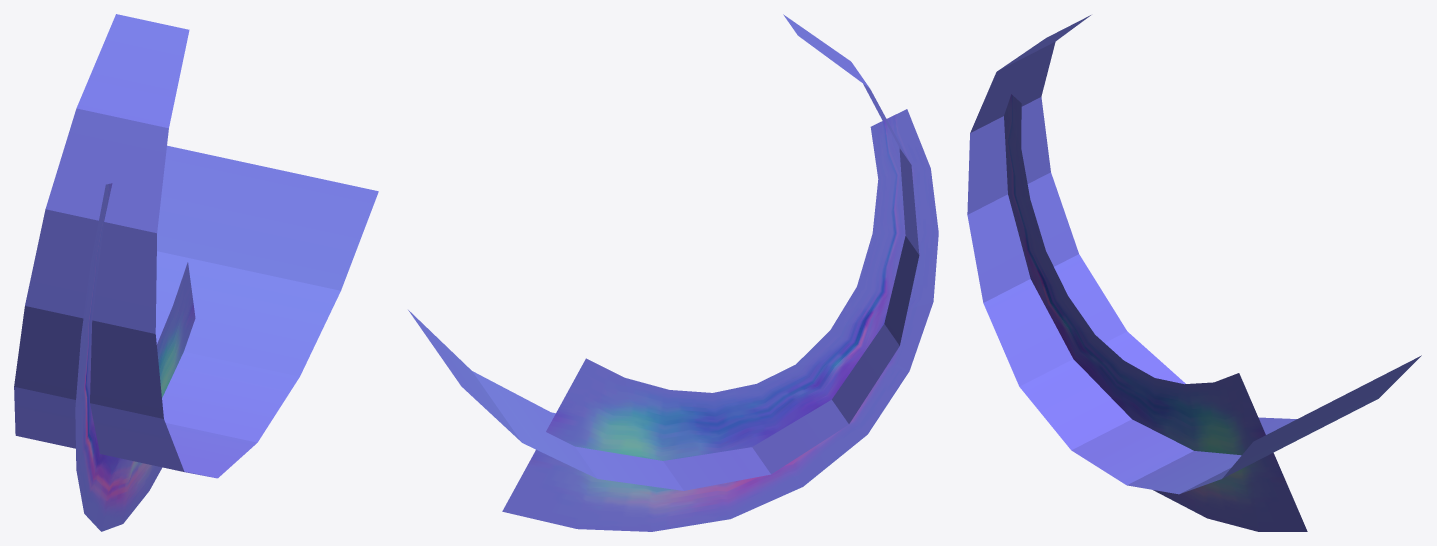
Rendered from langpugong_fire.obj.
The picture shows the model from 3 angles, left to right: view 1: azimuth 30°, elevation 25°; view 2: azimuth 150°, elevation 25°; view 3: azimuth 270°, elevation 25°; orthographic projection. The views are drawn at different scales.
Parts seen in each view (by area): view 1: Plane10_bump, plan5_bump; view 2: plan5_bump, Plane10_bump; view 3: Plane10_bump, plan5_bump.
Boxes of the visible parts, box(x1,y1,x2,y2) form: Plane10_bump: box(14, 14, 378, 478); plan5_bump: box(75, 183, 195, 531); plan5_bump: box(502, 109, 938, 531); Plane10_bump: box(408, 14, 919, 490); Plane10_bump: box(967, 15, 1421, 494); plan5_bump: box(1004, 94, 1307, 531).
Bounding box in the file's own units: 171 × 190 × 169.
Materials: 1 (1 with a texture image).
